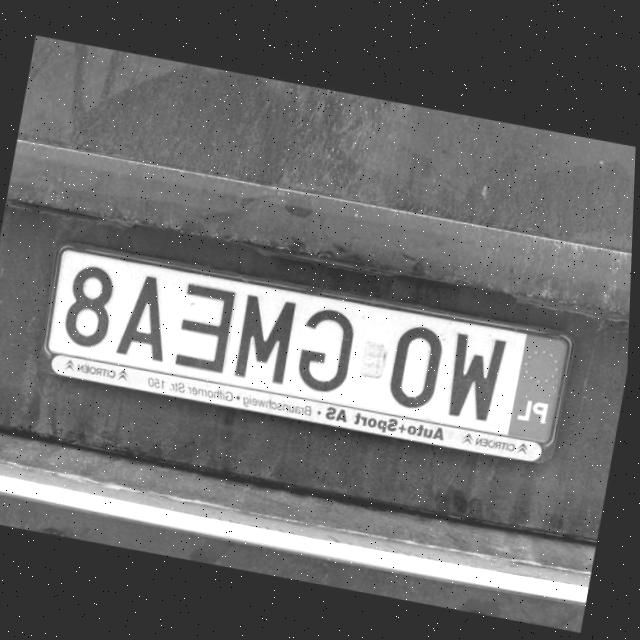license-plates: (45, 249, 570, 445)
